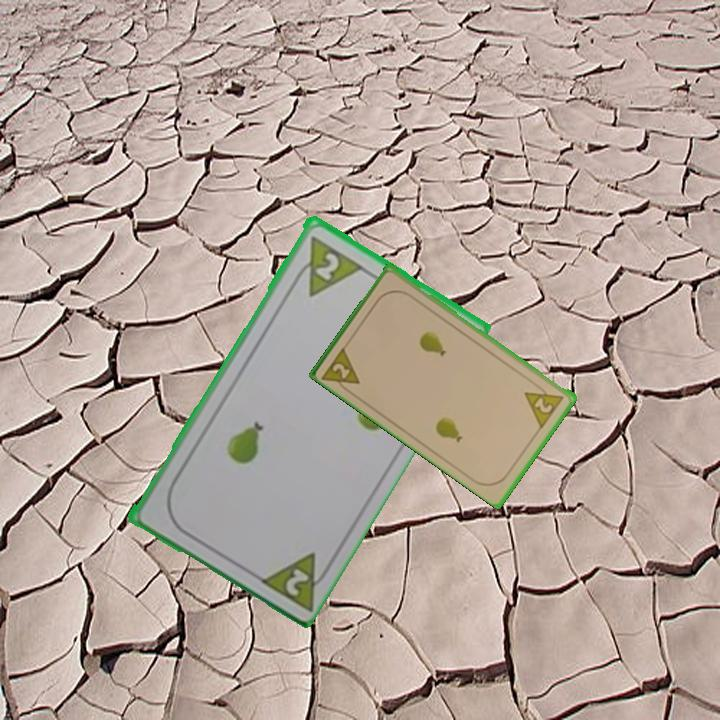2p: (253, 547, 337, 613), (287, 231, 364, 299), (319, 342, 363, 397), (521, 379, 568, 430)
